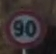limite 90: (4, 10, 45, 48)
